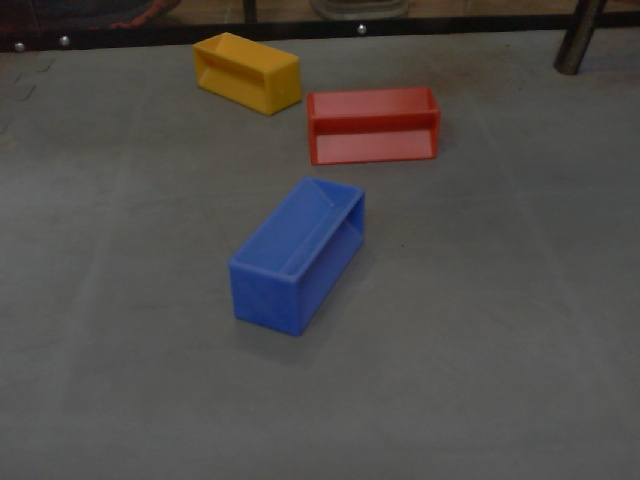BlueSample: (227, 175, 367, 339)
RedSample: (304, 85, 444, 166)
YellowSample: (191, 29, 305, 117)
